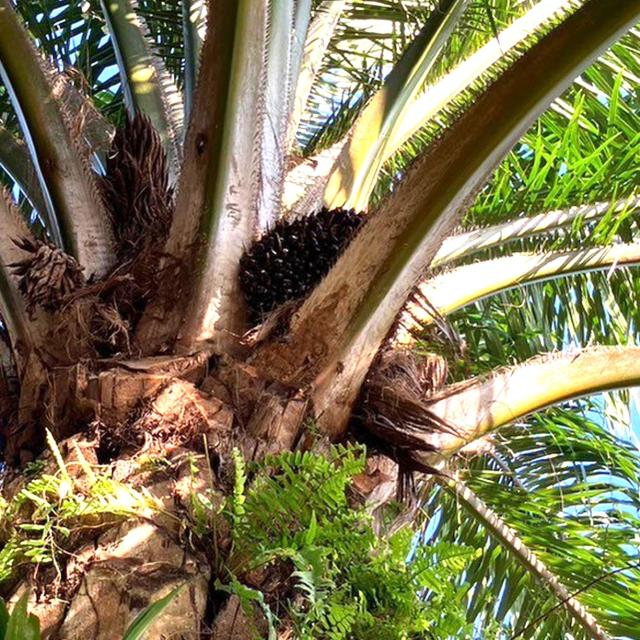almost: (226, 195, 387, 335)
